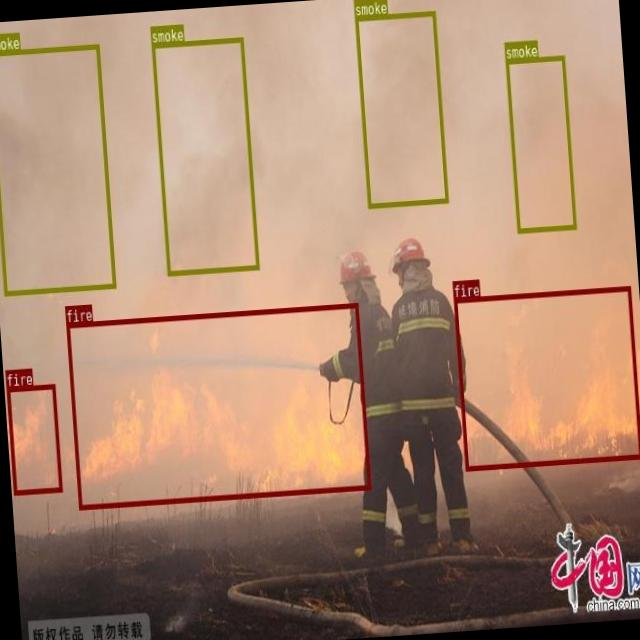fire: (66, 302, 370, 508), (452, 284, 640, 469), (6, 384, 61, 494)
smoke: (0, 44, 115, 295), (150, 36, 258, 274), (354, 9, 448, 208), (504, 54, 575, 232)
